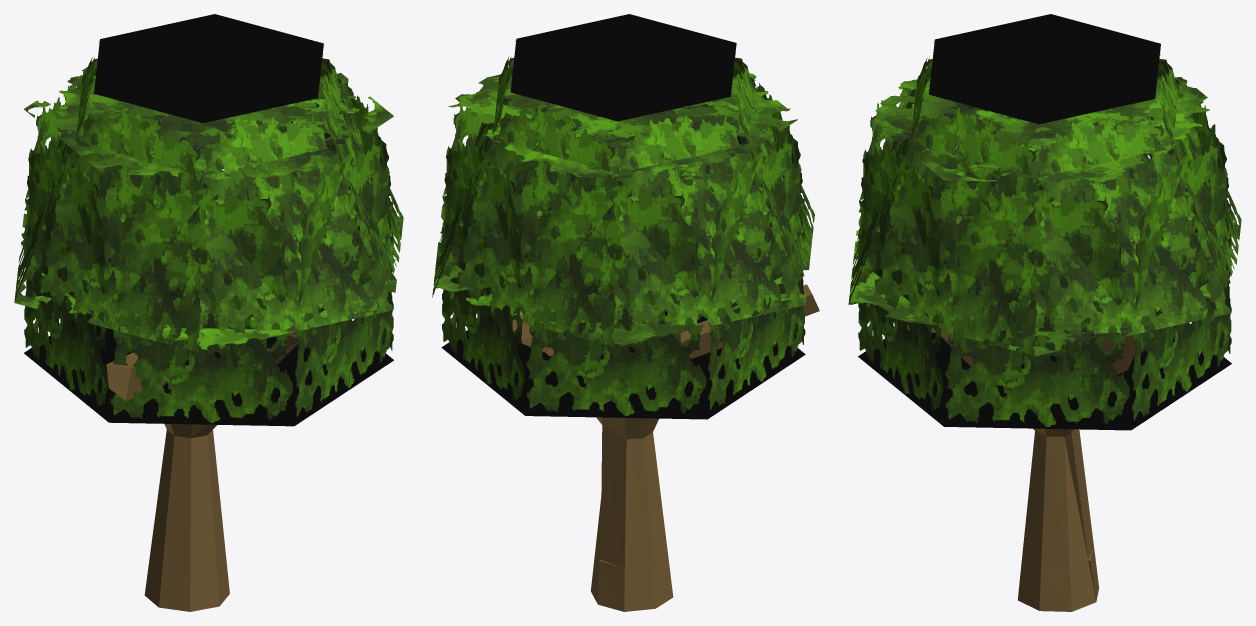
File: oak_tree1.obj
3 views of the same model, side by side, from view 1: azimuth 30°, elevation 25°; view 2: azimuth 150°, elevation 25°; view 3: azimuth 270°, elevation 25° (orthographic). The views are drawn at different scales.
Parts seen in each view (by area): view 1: Object.2, Object.1, Object.4, Object.3; view 2: Object.2, Object.1, Object.4, Object.3; view 3: Object.2, Object.1, Object.4, Object.3.
Boxes of the visible parts, x1=… form: Object.2: x1=14, y1=14, x2=403, y2=352; Object.1: x1=24, y1=58, x2=393, y2=426; Object.4: x1=106, y1=325, x2=340, y2=568; Object.3: x1=144, y1=552, x2=229, y2=611; Object.2: x1=432, y1=14, x2=814, y2=347; Object.1: x1=441, y1=73, x2=805, y2=419; Object.4: x1=480, y1=262, x2=819, y2=568; Object.3: x1=591, y1=550, x2=673, y2=611; Object.2: x1=848, y1=14, x2=1241, y2=356; Object.1: x1=858, y1=76, x2=1231, y2=430; Object.4: x1=894, y1=321, x2=1135, y2=567; Object.3: x1=1017, y1=547, x2=1098, y2=611.
Bounding box in the file's own units: 3.01 × 4 × 2.67.
